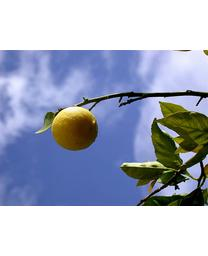lemon: (53, 108, 98, 152)
